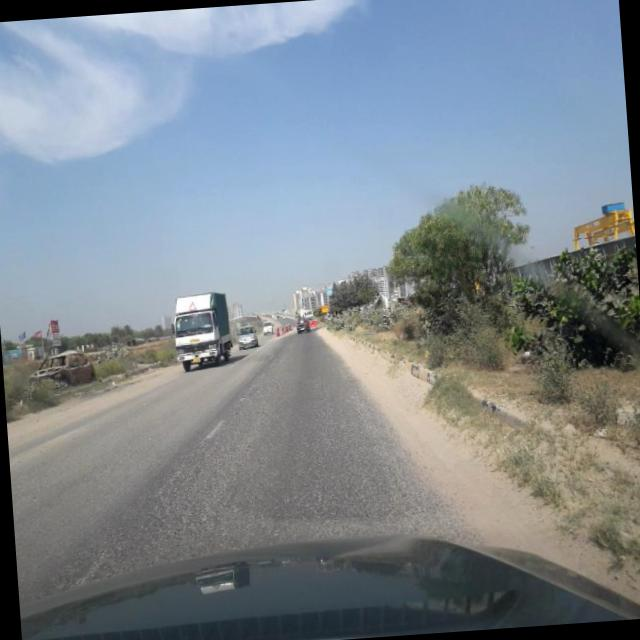crack: (90, 378, 432, 548)
